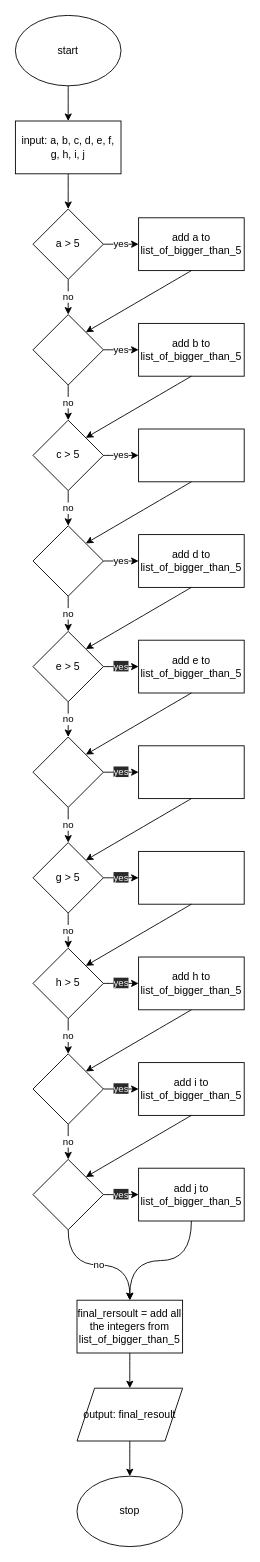
This 260x1562 diagram has some shape labels left out. The centre of each missing label's shape, as x and y in pixels:
"add c to list_of_bigger_than_5" belongs at point 191,455.
"add f to list_of_bigger_than_5" belongs at point 191,772.
"add g to list_of_bigger_than_5" belongs at point 191,877.
"b > 5" belongs at point 67,349.
"d > 5" belongs at point 67,560.
"f > 5" belongs at point 67,771.
"i > 5" belongs at point 67,1088.
"j > 5" belongs at point 67,1194.
